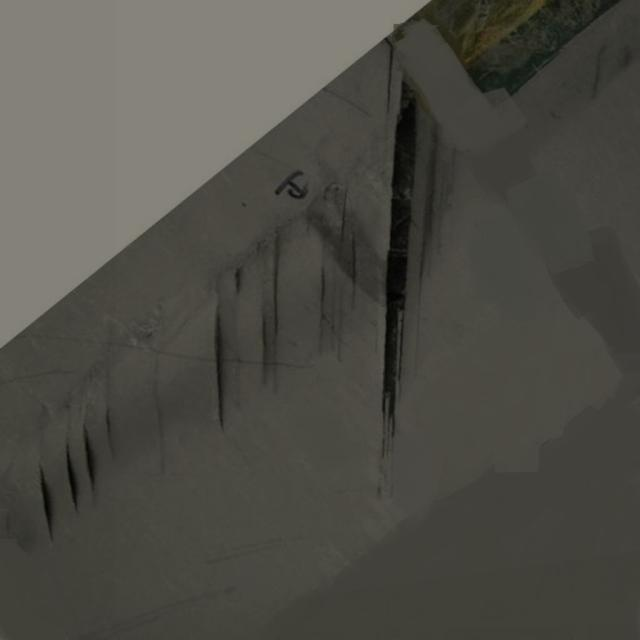crack: (210, 212, 358, 426), (371, 69, 439, 441), (34, 412, 104, 543)
surface_peeling: (434, 2, 625, 97)
